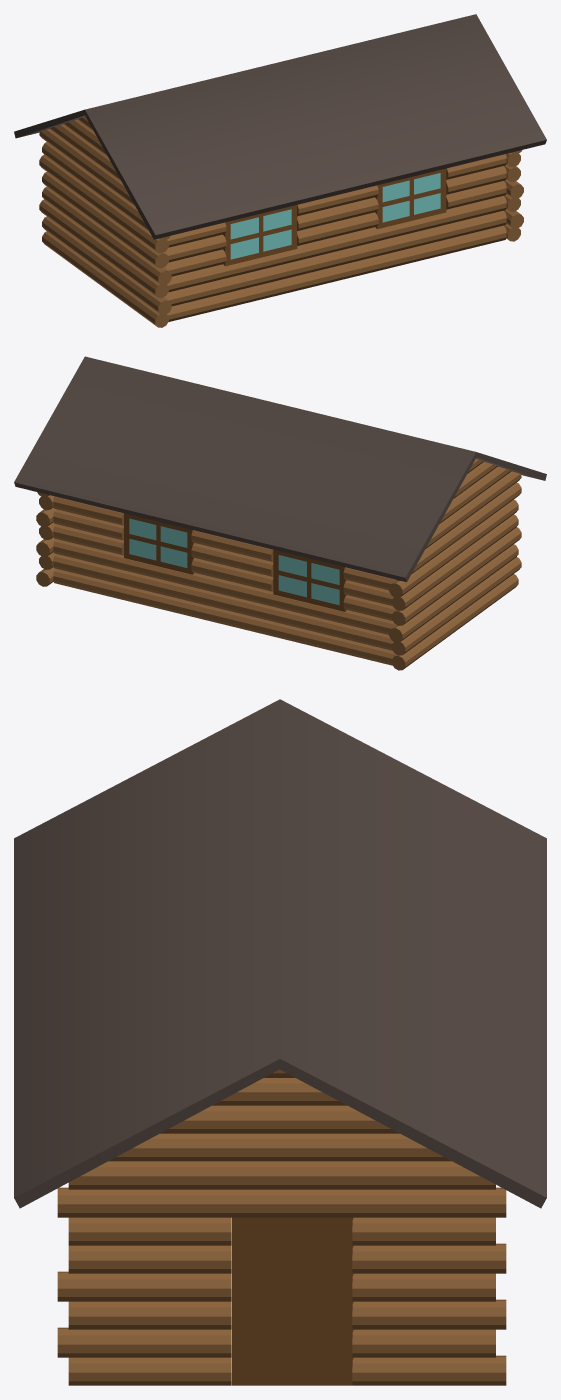
The model's file is Cabin.FBX.
3 renders of one model, top to bottom at view 1: azimuth 30°, elevation 25°; view 2: azimuth 150°, elevation 25°; view 3: azimuth 270°, elevation 25°, orthographic. The views are drawn at different scales.
Parts seen in each view (by area): view 1: Walls; view 2: Walls; view 3: Walls.
Boxes of the visible parts, left/top/right/bottom form: Walls: left=14, top=14, right=546, bottom=327; Walls: left=14, top=356, right=546, bottom=670; Walls: left=14, top=699, right=546, bottom=1385.
Size of the model in its own units: 1.95 by 0.8659 by 1.22.
